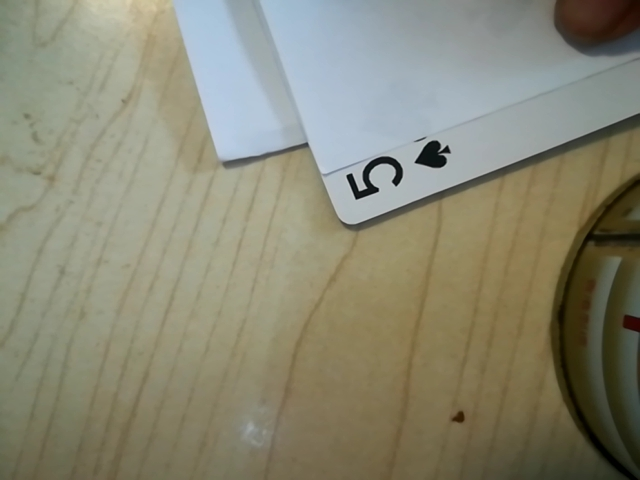ht 5: (332, 133, 465, 217)
